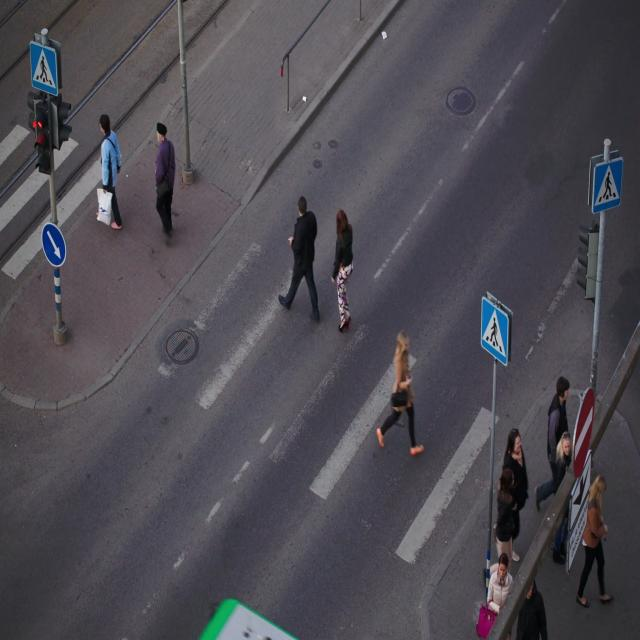pedestrian: (279, 196, 319, 320), (97, 114, 122, 229), (331, 210, 353, 331), (155, 123, 175, 233), (392, 331, 411, 411), (377, 417, 393, 446)
